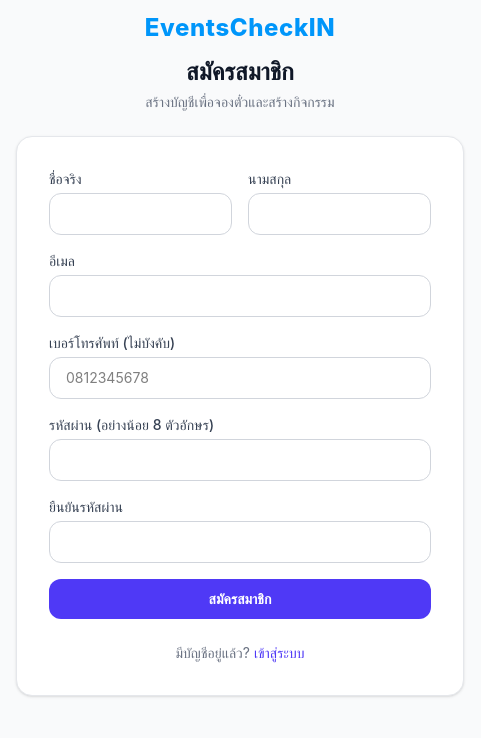
Test case: Register › อีเมลซ้ำ (409) → แสดงข้อความจาก backend
In the field named "firstName": point(141, 214) [49,193,232,235], type "a"
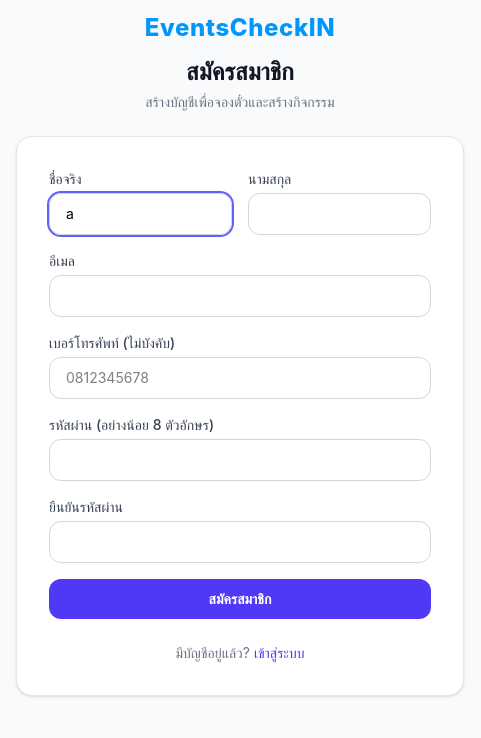
In the field named "lastName": point(340, 214) [248,193,431,235], type "b"
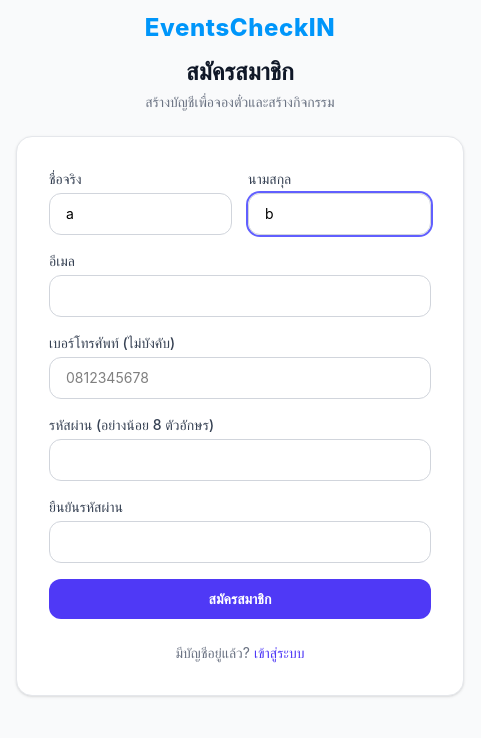
In the field named "emailAddress": point(240, 296) [49,275,431,317], type "dup@b.com"
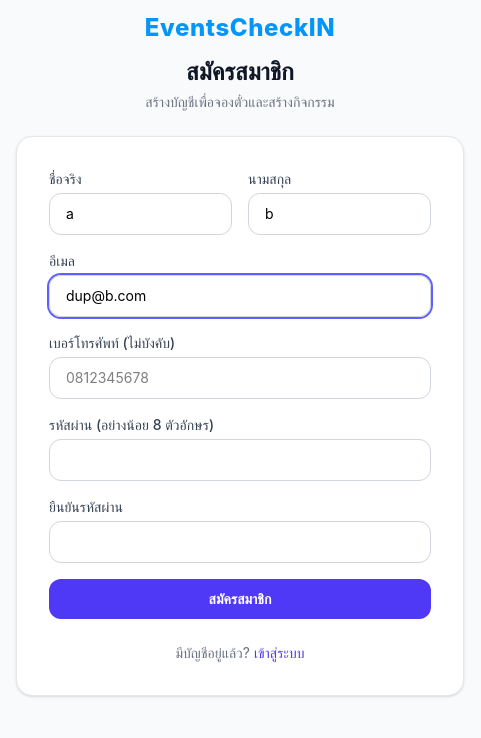
In the password field named "password": point(240, 460) [49,439,431,481], type "longenough1"
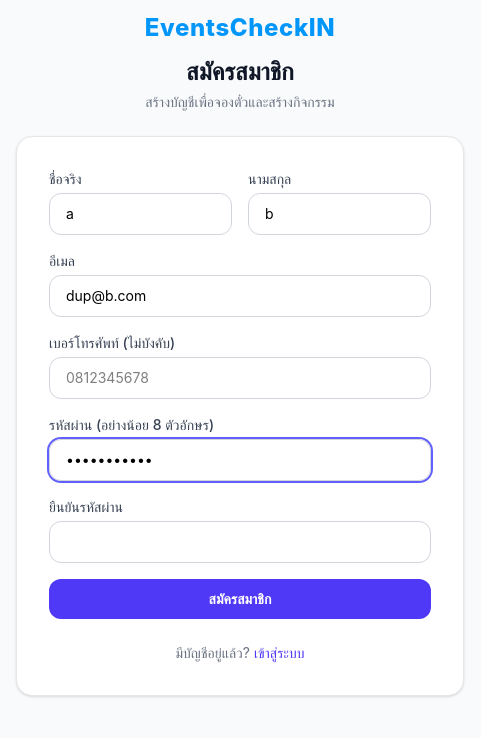
In the password field named "confirmPassword": point(240, 542) [49,521,431,563], type "longenough1"
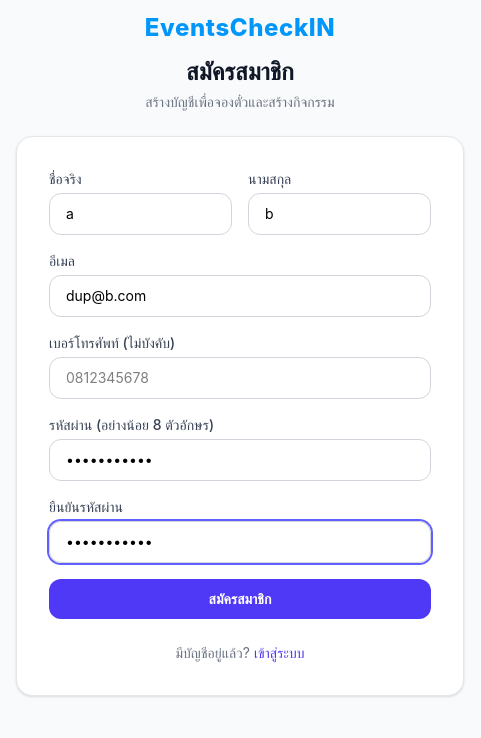
Click the button "สมัครสมาชิก": point(240, 599) [49,579,431,619]
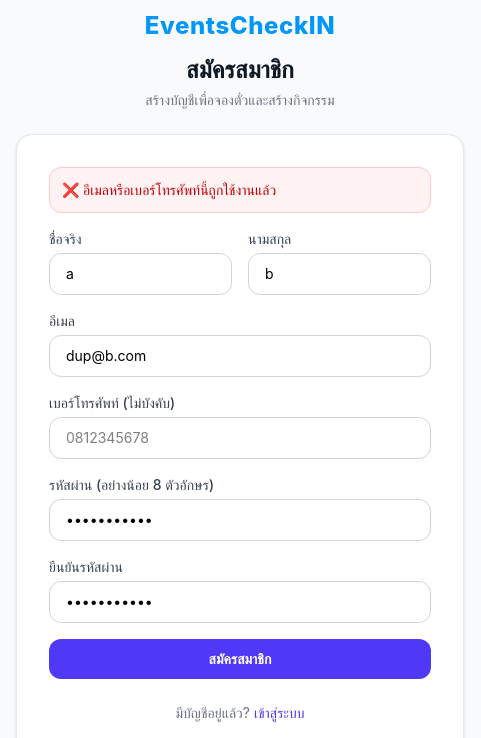
expect the text "อีเมลหรือเบอร์โทรศัพท์นี้ถูกใช้งานแล้ว" is shown: met, box [83,181,276,198]
